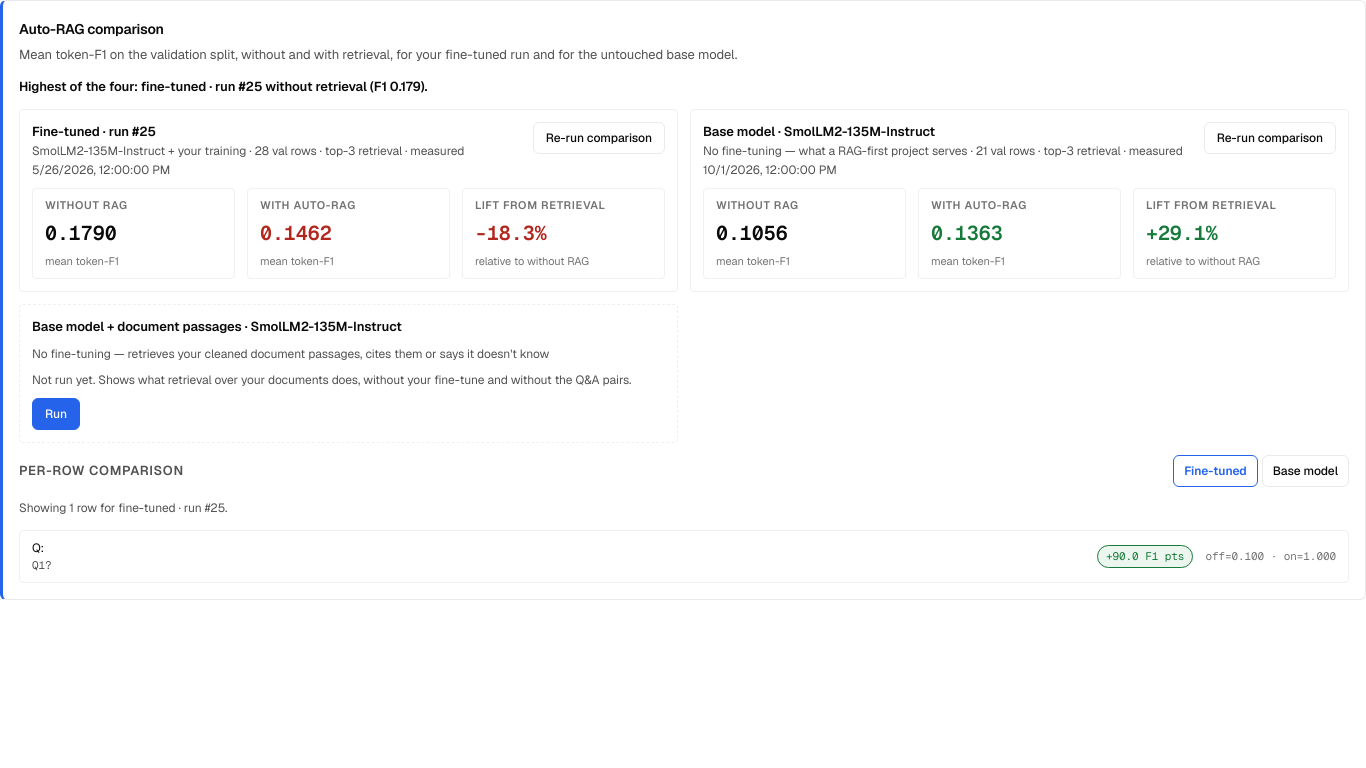
Test: AutoRagComparisonPanel — base model next to the fine-tuned run › switches the per-row list between the two models
Expected: the text "Base-only question?" is not shown
Step 1. Click the button with test id "auto-rag-comparison-rows-base" → x=1305, y=471, box [1262,455,1349,487]
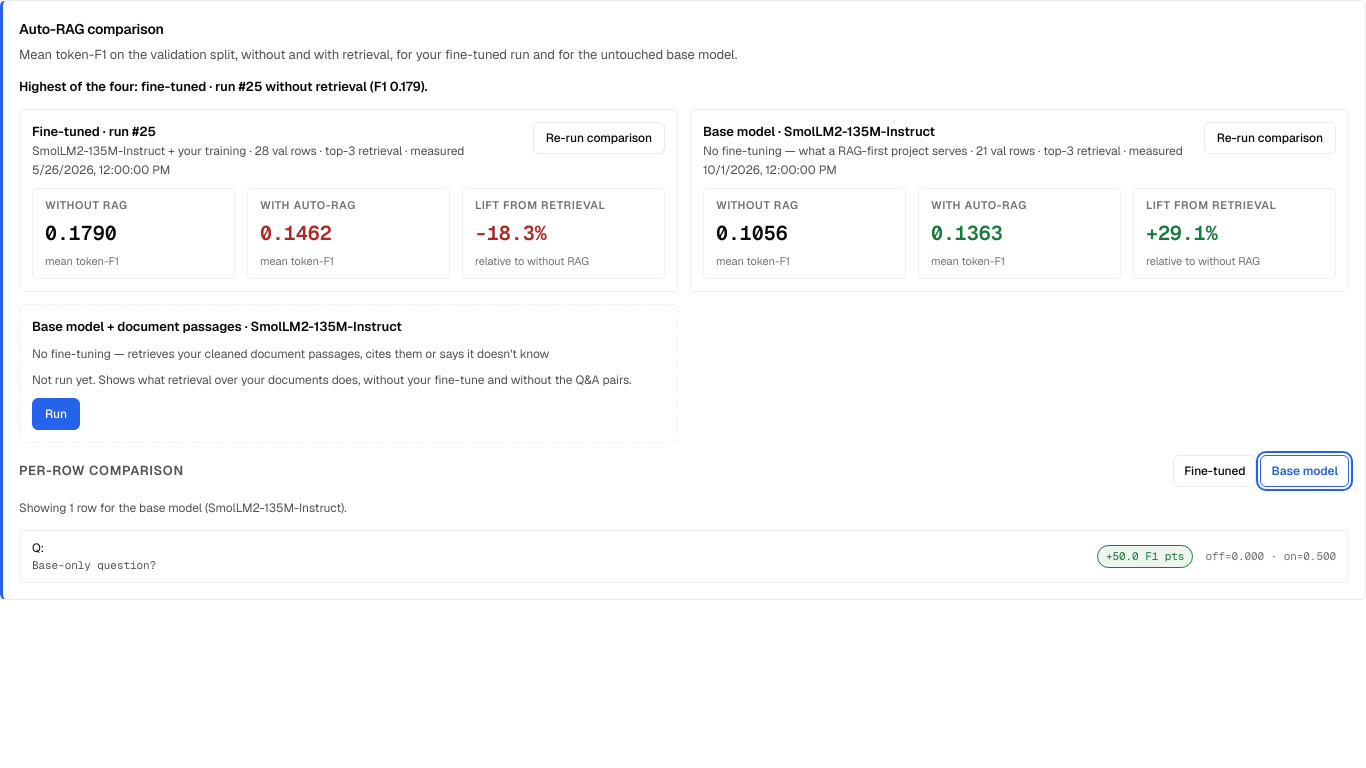
Now the text "Base-only question?" is shown, box [32,558,156,572]
Now the text with test id "auto-rag-comparison-rows-caption" shows "base model", box [118,500,344,516]
